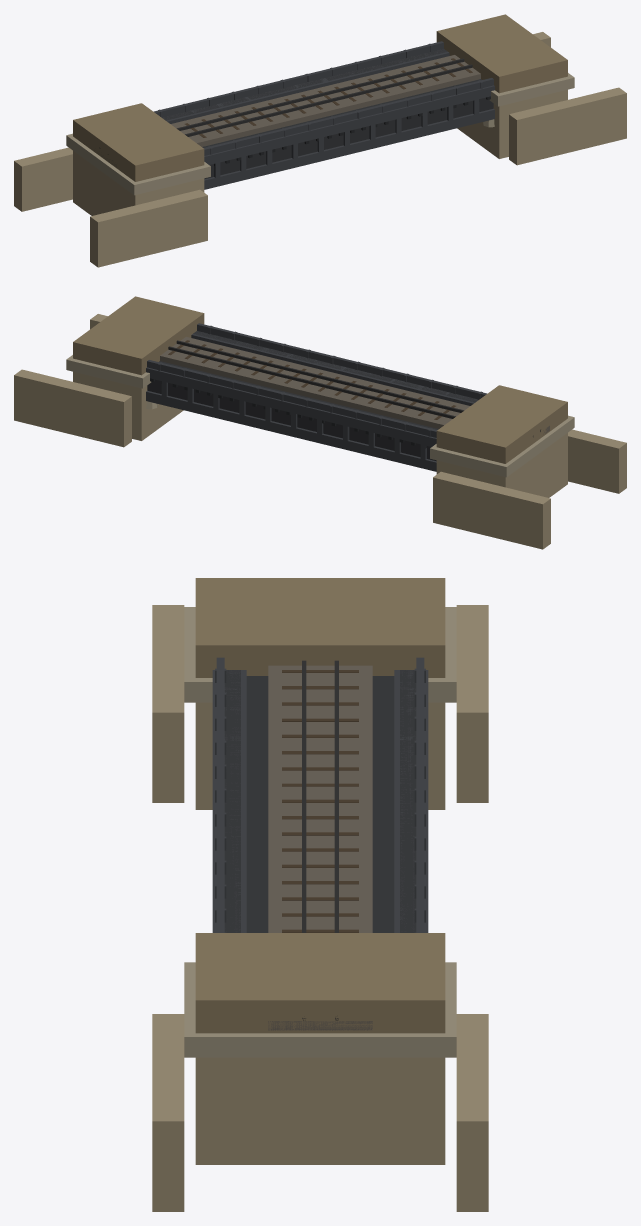
File: rail_bridge_girder_unit.glb
The picture shows the model from 3 angles, top to bottom: view 1: azimuth 30°, elevation 25°; view 2: azimuth 150°, elevation 25°; view 3: azimuth 270°, elevation 25°; orthographic projection. The views are drawn at different scales.
Visible parts, largest first — view 1: rail_bridge_girder_unit; view 2: rail_bridge_girder_unit; view 3: rail_bridge_girder_unit.
Part boxes in pixels (box(x1,y1,x2,y2)): rail_bridge_girder_unit: box(14, 14, 626, 267); rail_bridge_girder_unit: box(14, 296, 626, 549); rail_bridge_girder_unit: box(152, 578, 488, 1211).
Size of the model in its own units: 53.8 by 8 by 14.8.
